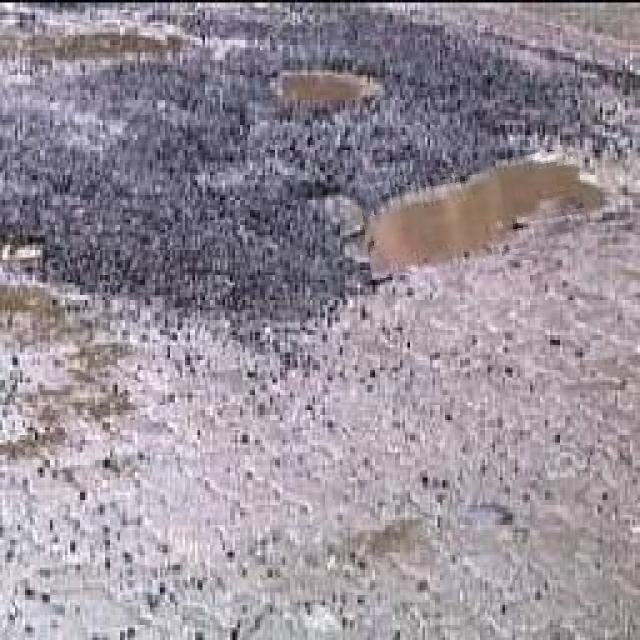puddle: (361, 157, 588, 272)
